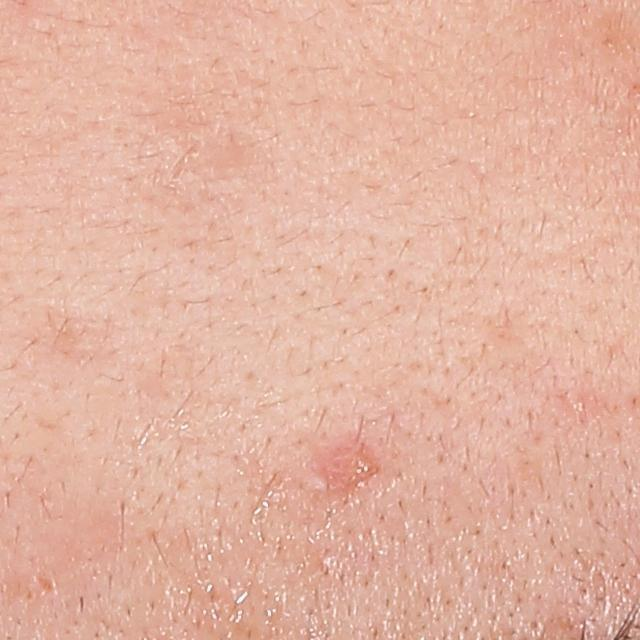atrophic_scar: (37, 565, 56, 596)
papule: (319, 441, 375, 487)
